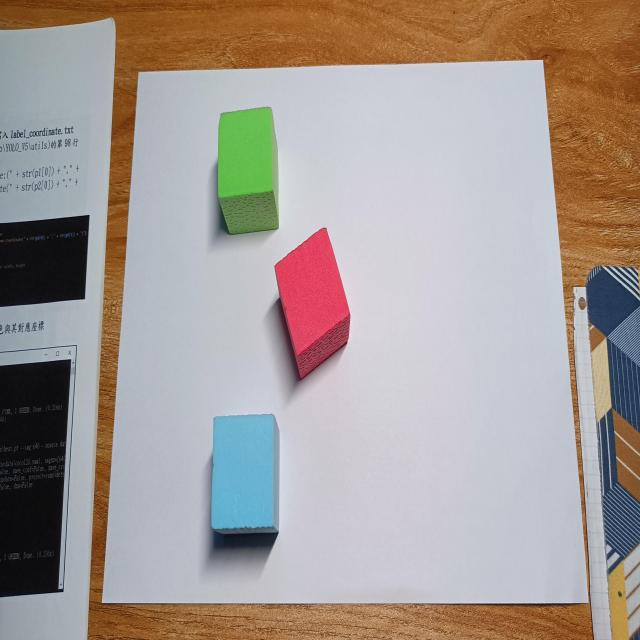BLUE: (211, 416, 281, 532)
GREEN: (217, 106, 279, 236)
RED: (273, 227, 350, 381)
